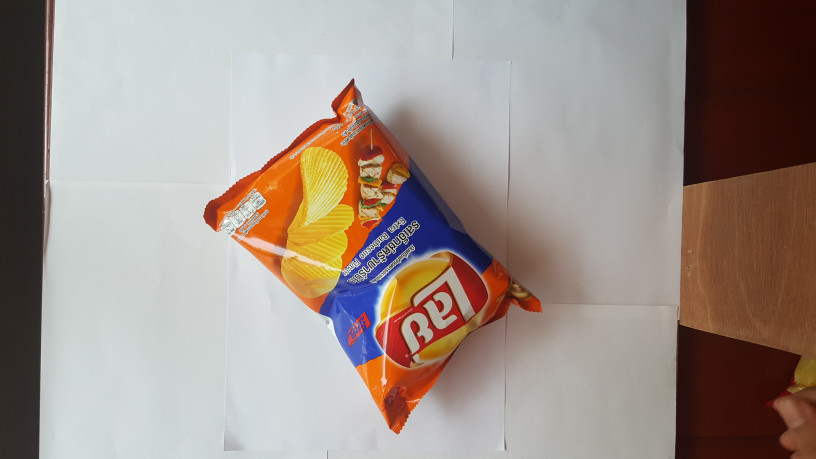lays-bbq: (201, 80, 547, 442)
